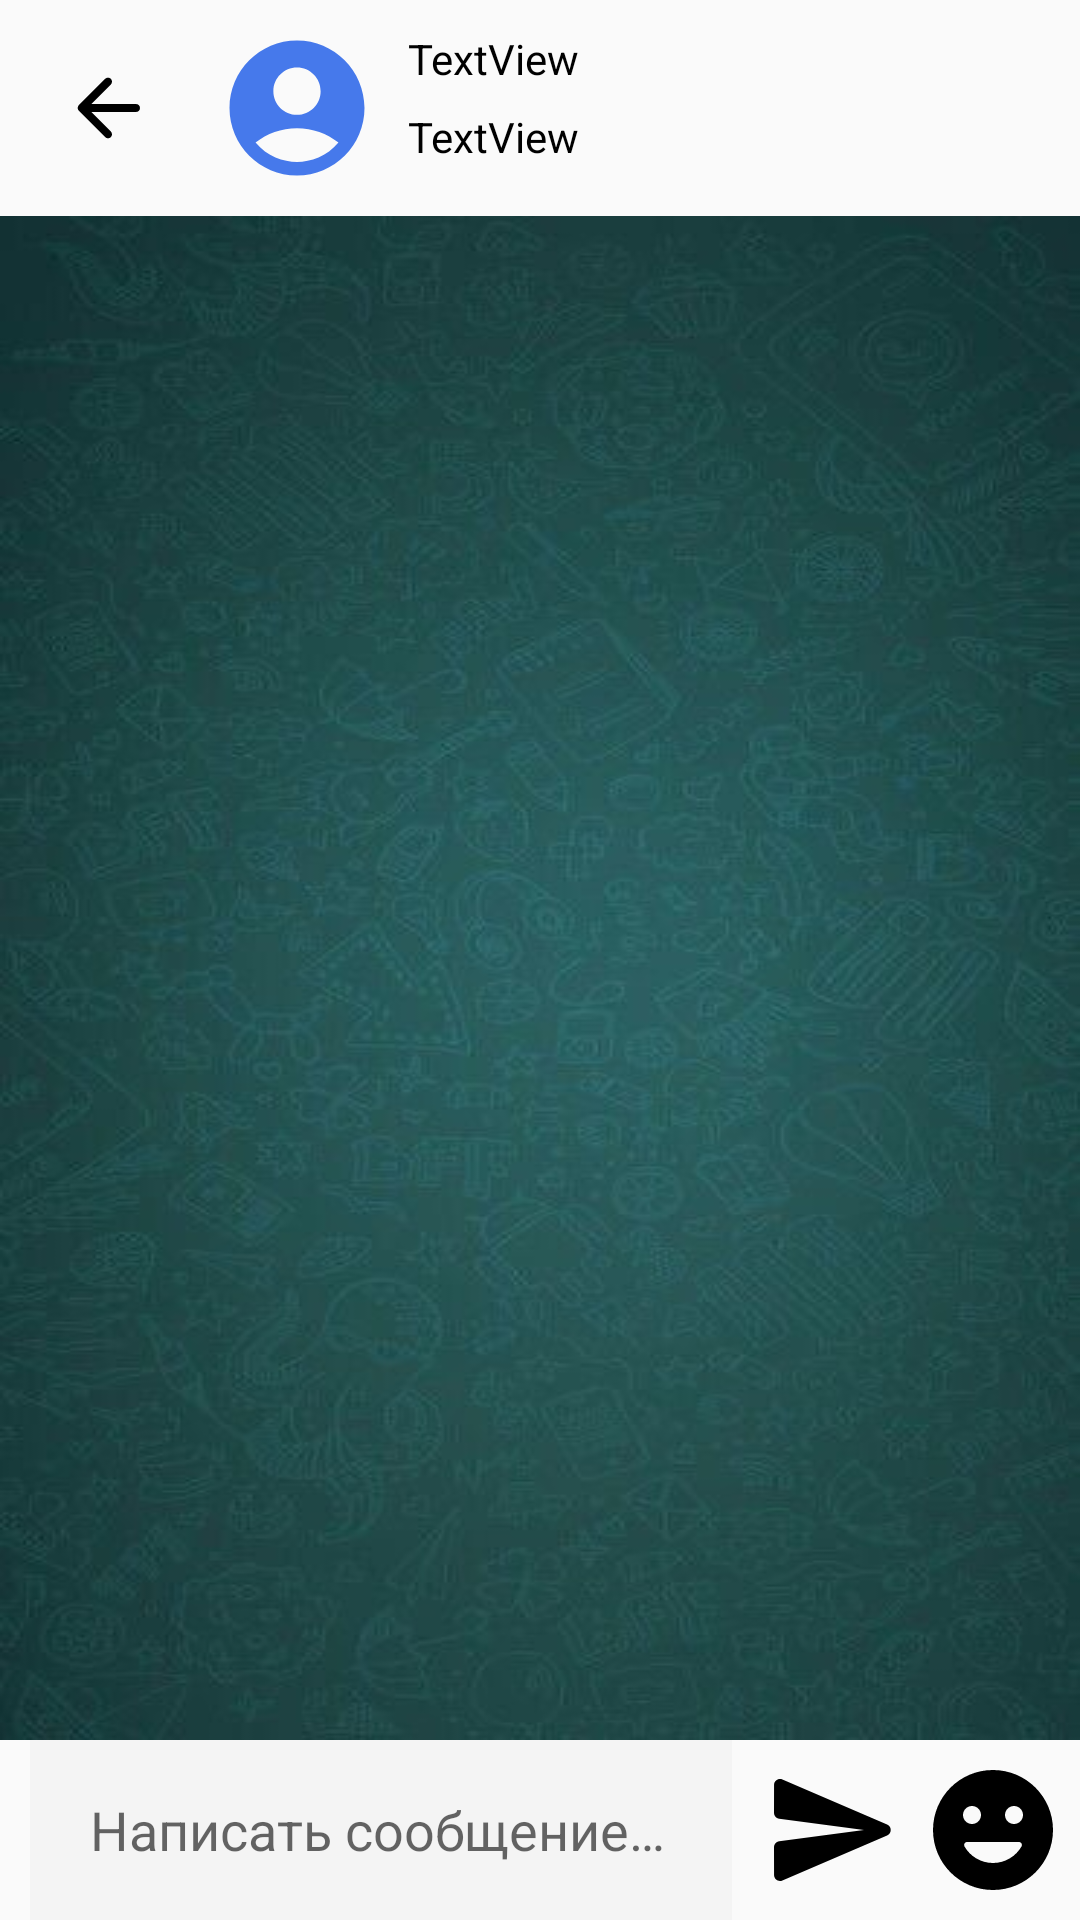

Icon bounding boxes for this 1080*1920 phone screenshot, format (x1, y1, x2, y2):
account circle: (229, 40, 365, 176)
arrow back: (77, 77, 140, 139)
insert emoticon: (933, 1770, 1053, 1890)
send: (774, 1779, 891, 1881)
